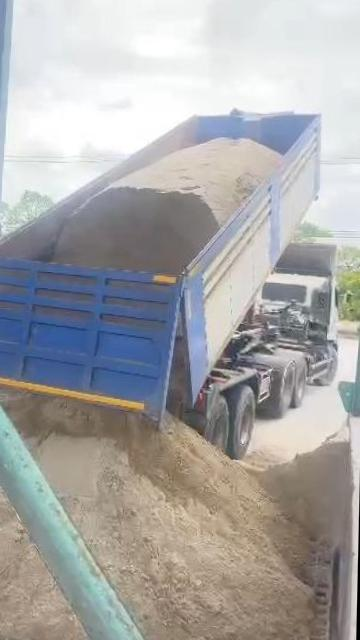sand: (7, 396, 310, 640), (52, 138, 281, 273), (0, 395, 92, 640), (236, 436, 350, 545)
